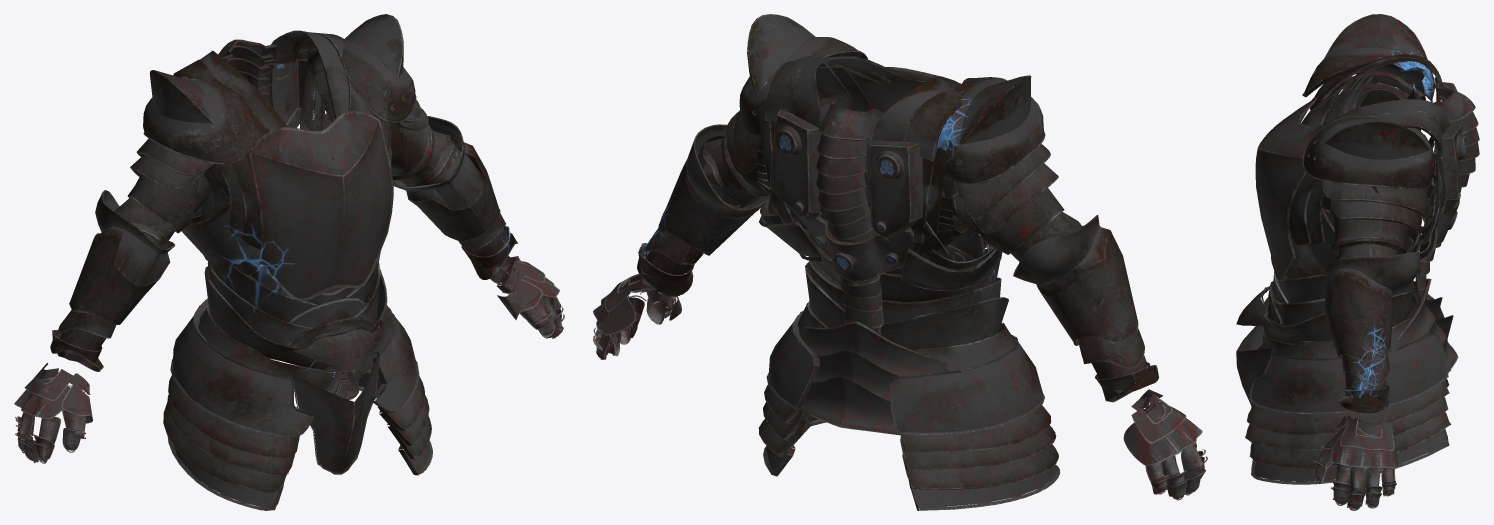
Rendered from skin.obj.
3 renders of one model, left to right at view 1: azimuth 30°, elevation 25°; view 2: azimuth 150°, elevation 25°; view 3: azimuth 270°, elevation 25°, orthographic. The views are drawn at different scales.
Parts seen in each view (by area): view 1: chest; view 2: chest; view 3: chest.
Boxes of the visible parts, bbox=[...] form: chest: bbox=[14, 14, 564, 510]; chest: bbox=[593, 14, 1207, 510]; chest: bbox=[1236, 14, 1479, 510].
Size of the model in its own units: 1.47 by 1.03 by 0.6082.
4 materials, 4 textured.
